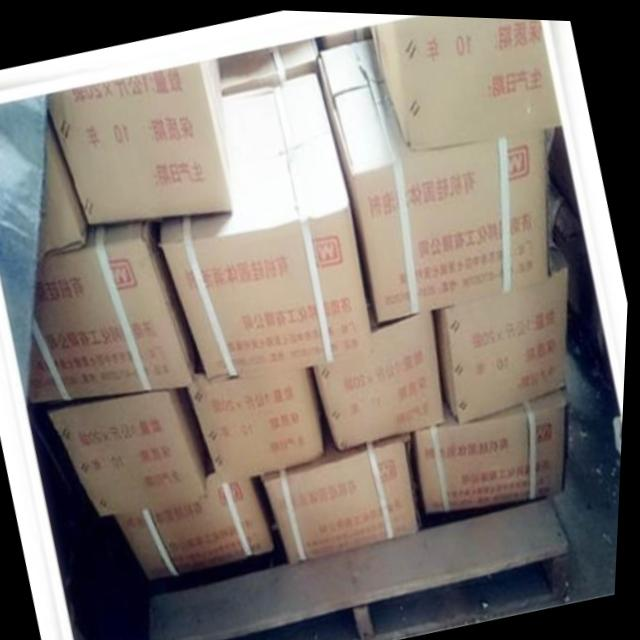box: (315, 35, 551, 320), (163, 71, 377, 377), (32, 217, 198, 403), (49, 58, 229, 224), (370, 12, 565, 142), (442, 229, 571, 418), (119, 443, 280, 580), (265, 431, 425, 560), (52, 385, 209, 515), (416, 385, 571, 508), (315, 306, 449, 445), (189, 354, 332, 480), (44, 118, 92, 256), (220, 38, 323, 91), (315, 26, 372, 51)
